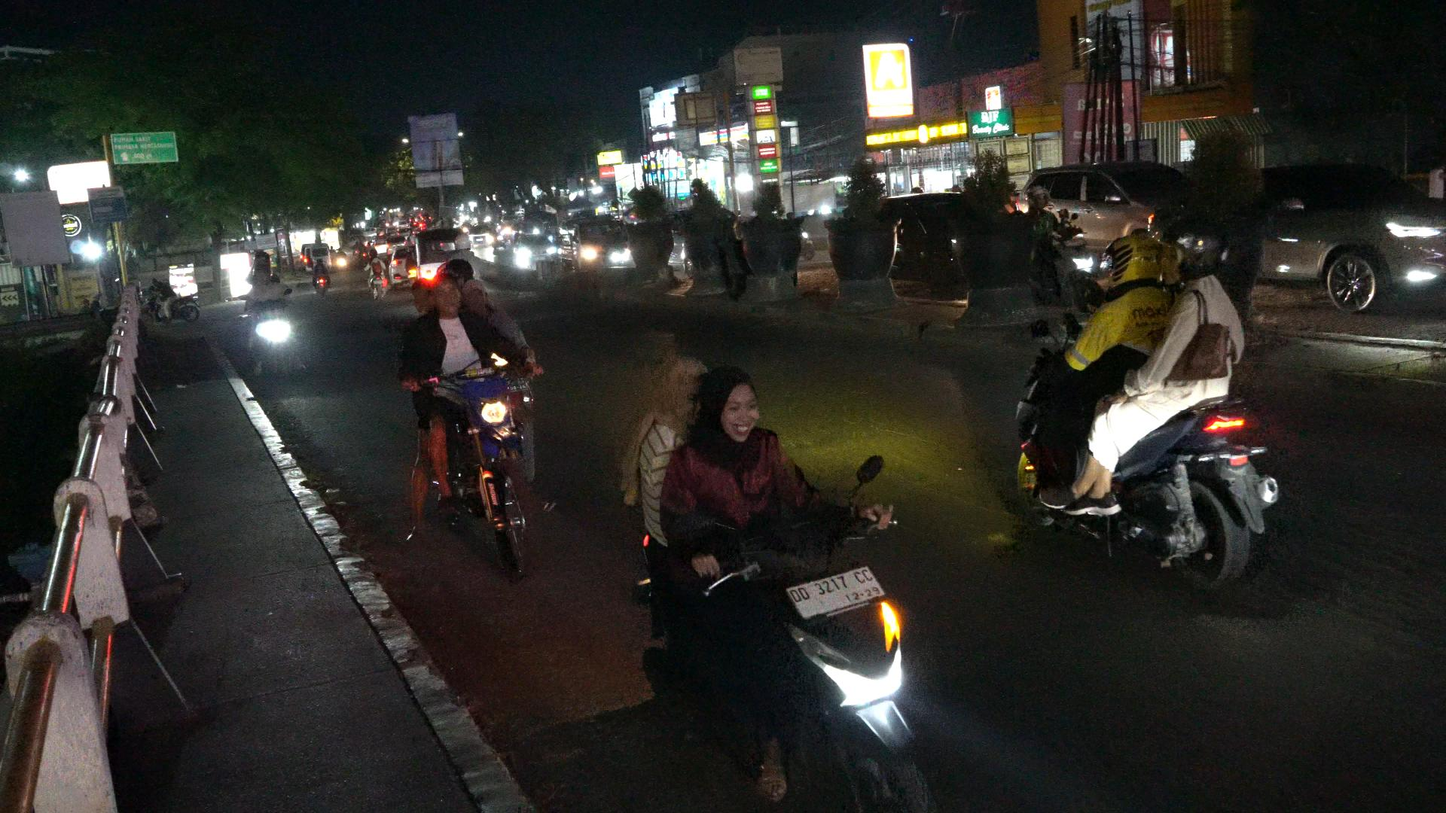number-plate: (785, 564, 889, 614)
